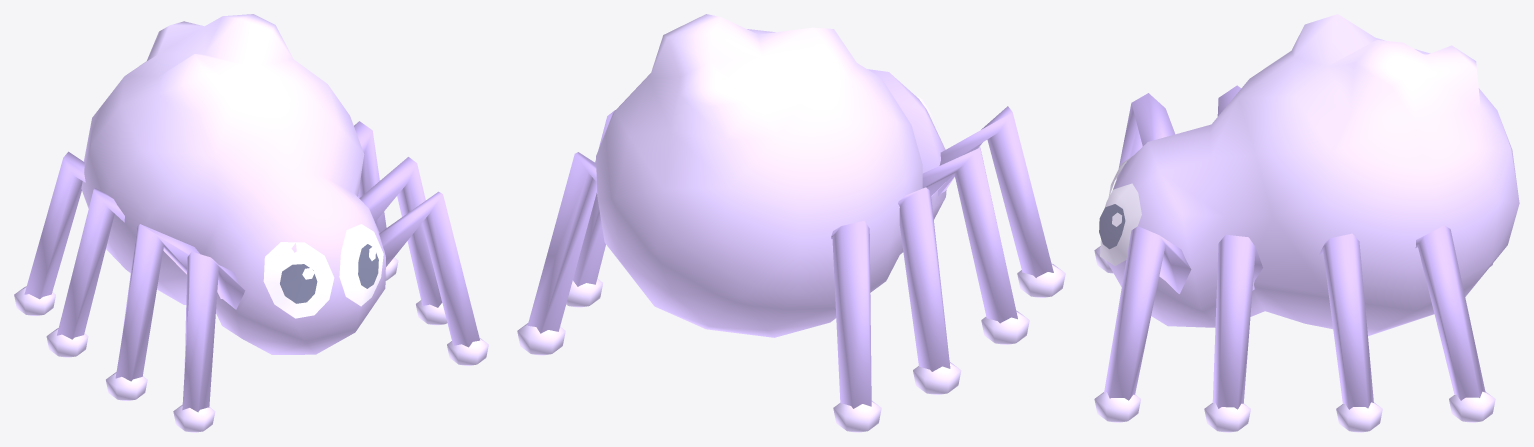
File: spider.glb
3 renders of one model, left to right at view 1: azimuth 30°, elevation 25°; view 2: azimuth 150°, elevation 25°; view 3: azimuth 270°, elevation 25°, orthographic. The views are drawn at different scales.
Visible parts, largest first — view 1: spider; view 2: spider; view 3: spider.
Boxes of the visible parts, x1,y1,x2,y2 form: spider: (14, 14, 488, 432); spider: (517, 14, 1065, 432); spider: (1094, 14, 1519, 432).
Size of the model in its own units: 3 by 2.43 by 2.9.
